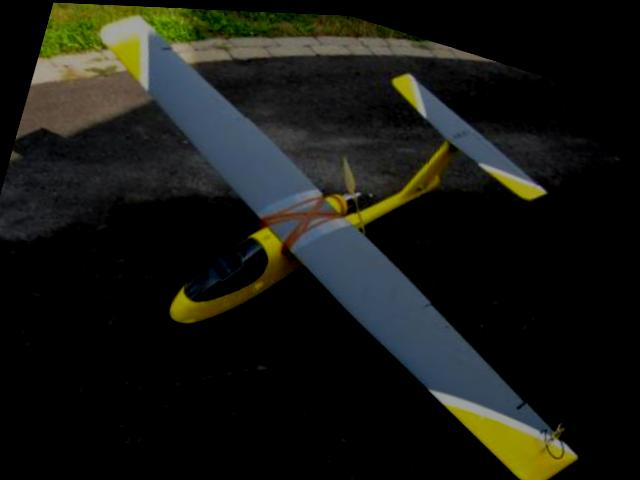uav: (15, 1, 640, 480)
